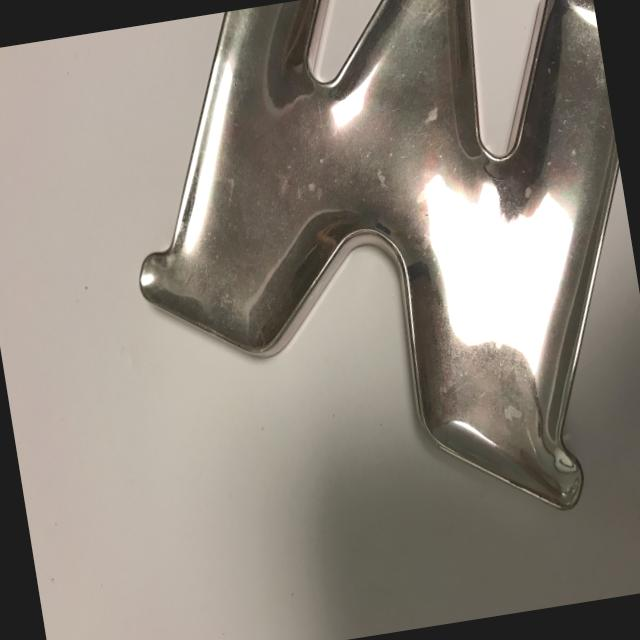Metal: (87, 0, 640, 580)
